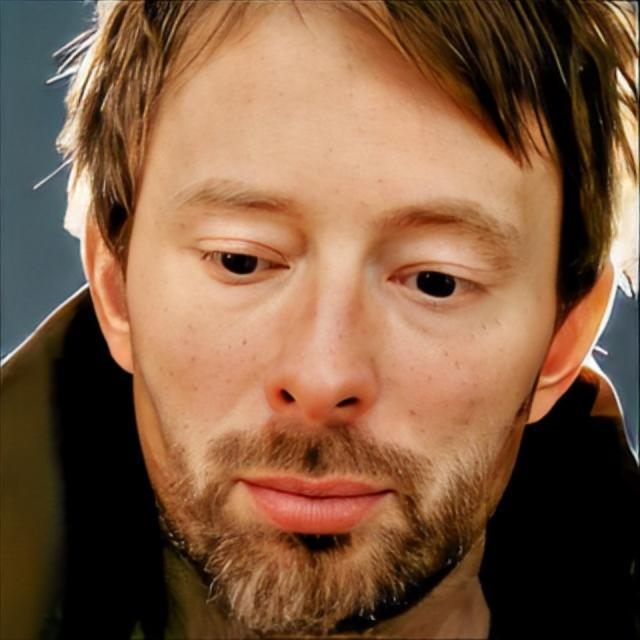neutral: (130, 2, 560, 635)
